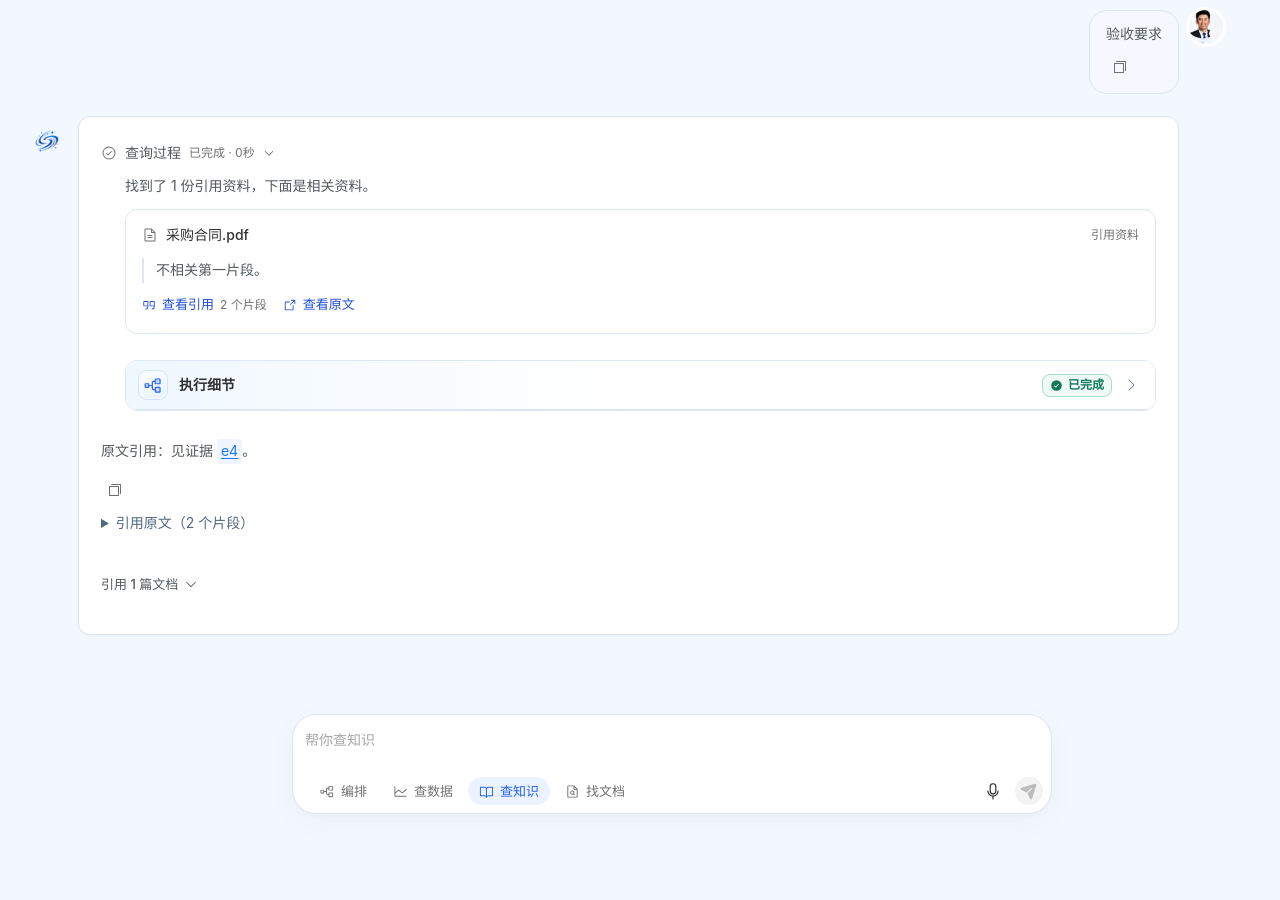
analysis response phases › opens the exact server-confirmed evidence fragment without guessing its ordinal
Click the button named "e4：查看引用原文片段". click: point(230, 451)
box: [217,439,242,464]
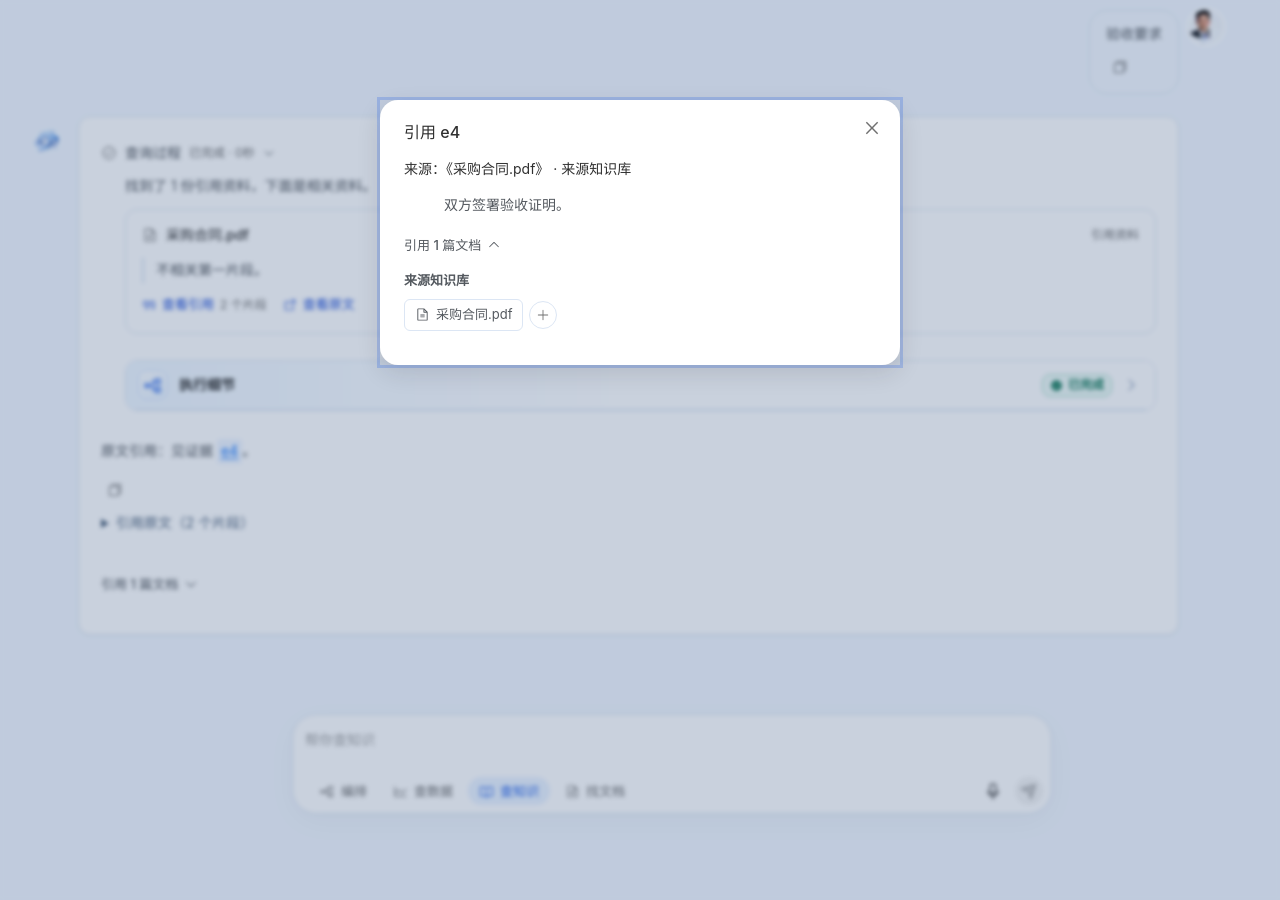
Expected: the element named "e4 引用原文片段" does not show "不相关第一片段", [404,160,631,213]
Expected: the element named "e4 引用原文片段" shows "双方签署验收证明。", [444,196,570,213]
